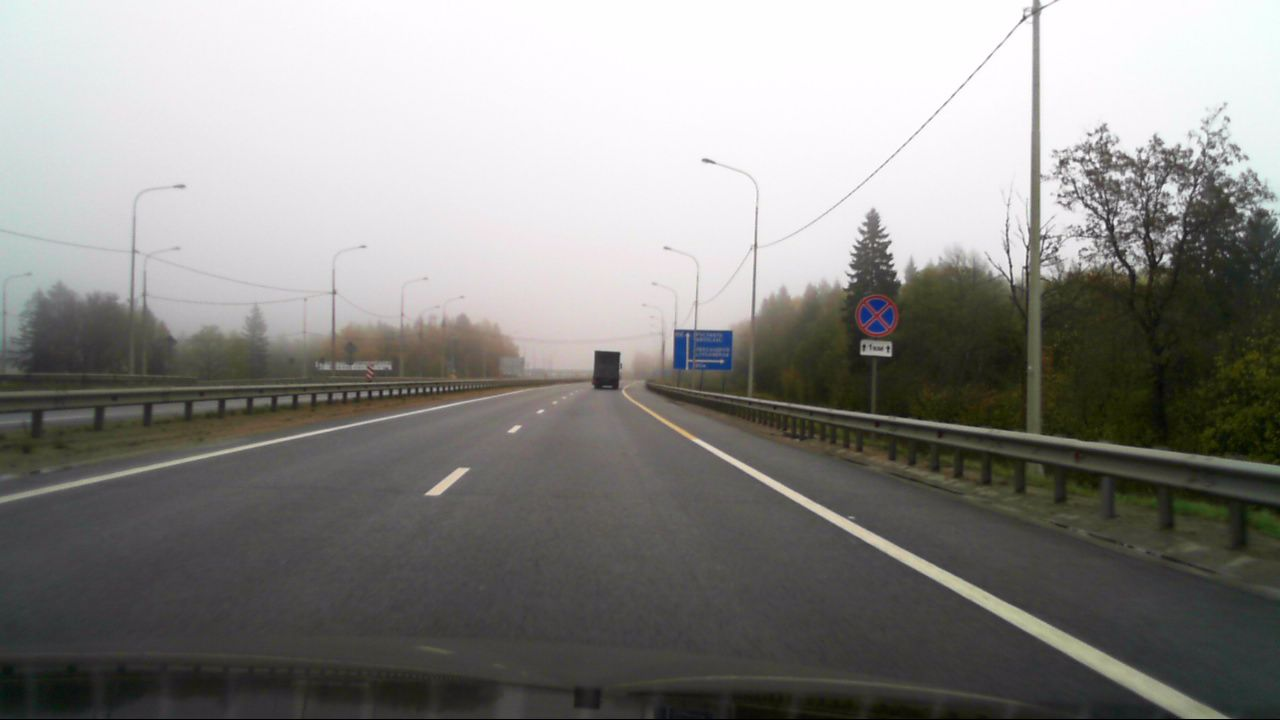No Parking: (855, 294, 896, 335)
